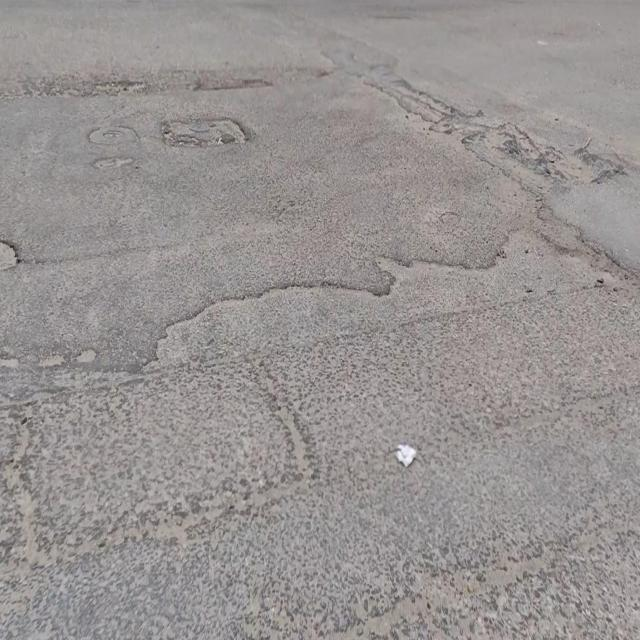Potholes: (157, 112, 250, 152), (0, 239, 22, 271)
